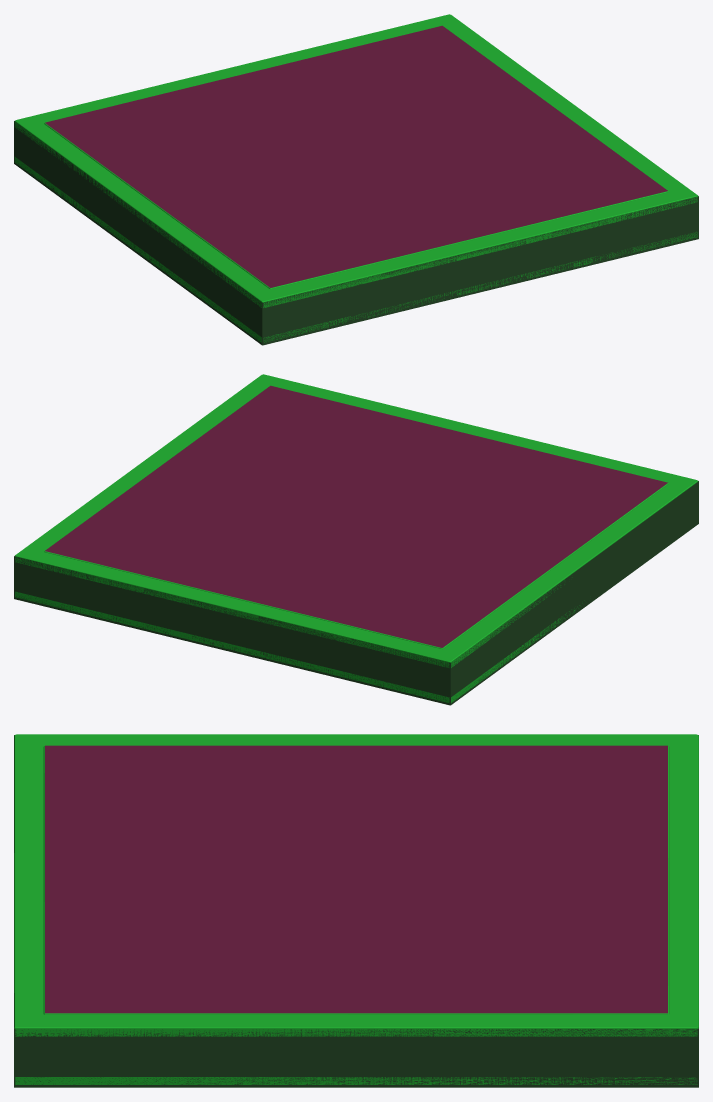
File: StudioPlatform_01_Mesh.fbx
The picture shows the model from 3 angles, top to bottom: view 1: azimuth 30°, elevation 25°; view 2: azimuth 150°, elevation 25°; view 3: azimuth 270°, elevation 25°; orthographic projection. The views are drawn at different scales.
Parts seen in each view (by area): view 1: Studio_Platform_LOD0, Studio_Platform_Col; view 2: Studio_Platform_LOD0, Studio_Platform_Col; view 3: Studio_Platform_LOD0, Studio_Platform_Col.
Boxes of the visible parts, left/top/right/bottom form: Studio_Platform_LOD0: left=14, top=14, right=698, bottom=342; Studio_Platform_Col: left=14, top=121, right=698, bottom=345; Studio_Platform_LOD0: left=14, top=374, right=698, bottom=703; Studio_Platform_Col: left=14, top=481, right=698, bottom=705; Studio_Platform_LOD0: left=14, top=734, right=698, bottom=1084; Studio_Platform_Col: left=14, top=735, right=698, bottom=1087.
Size of what is drawn, in the model's own units: 249 by 24.32 by 246.
